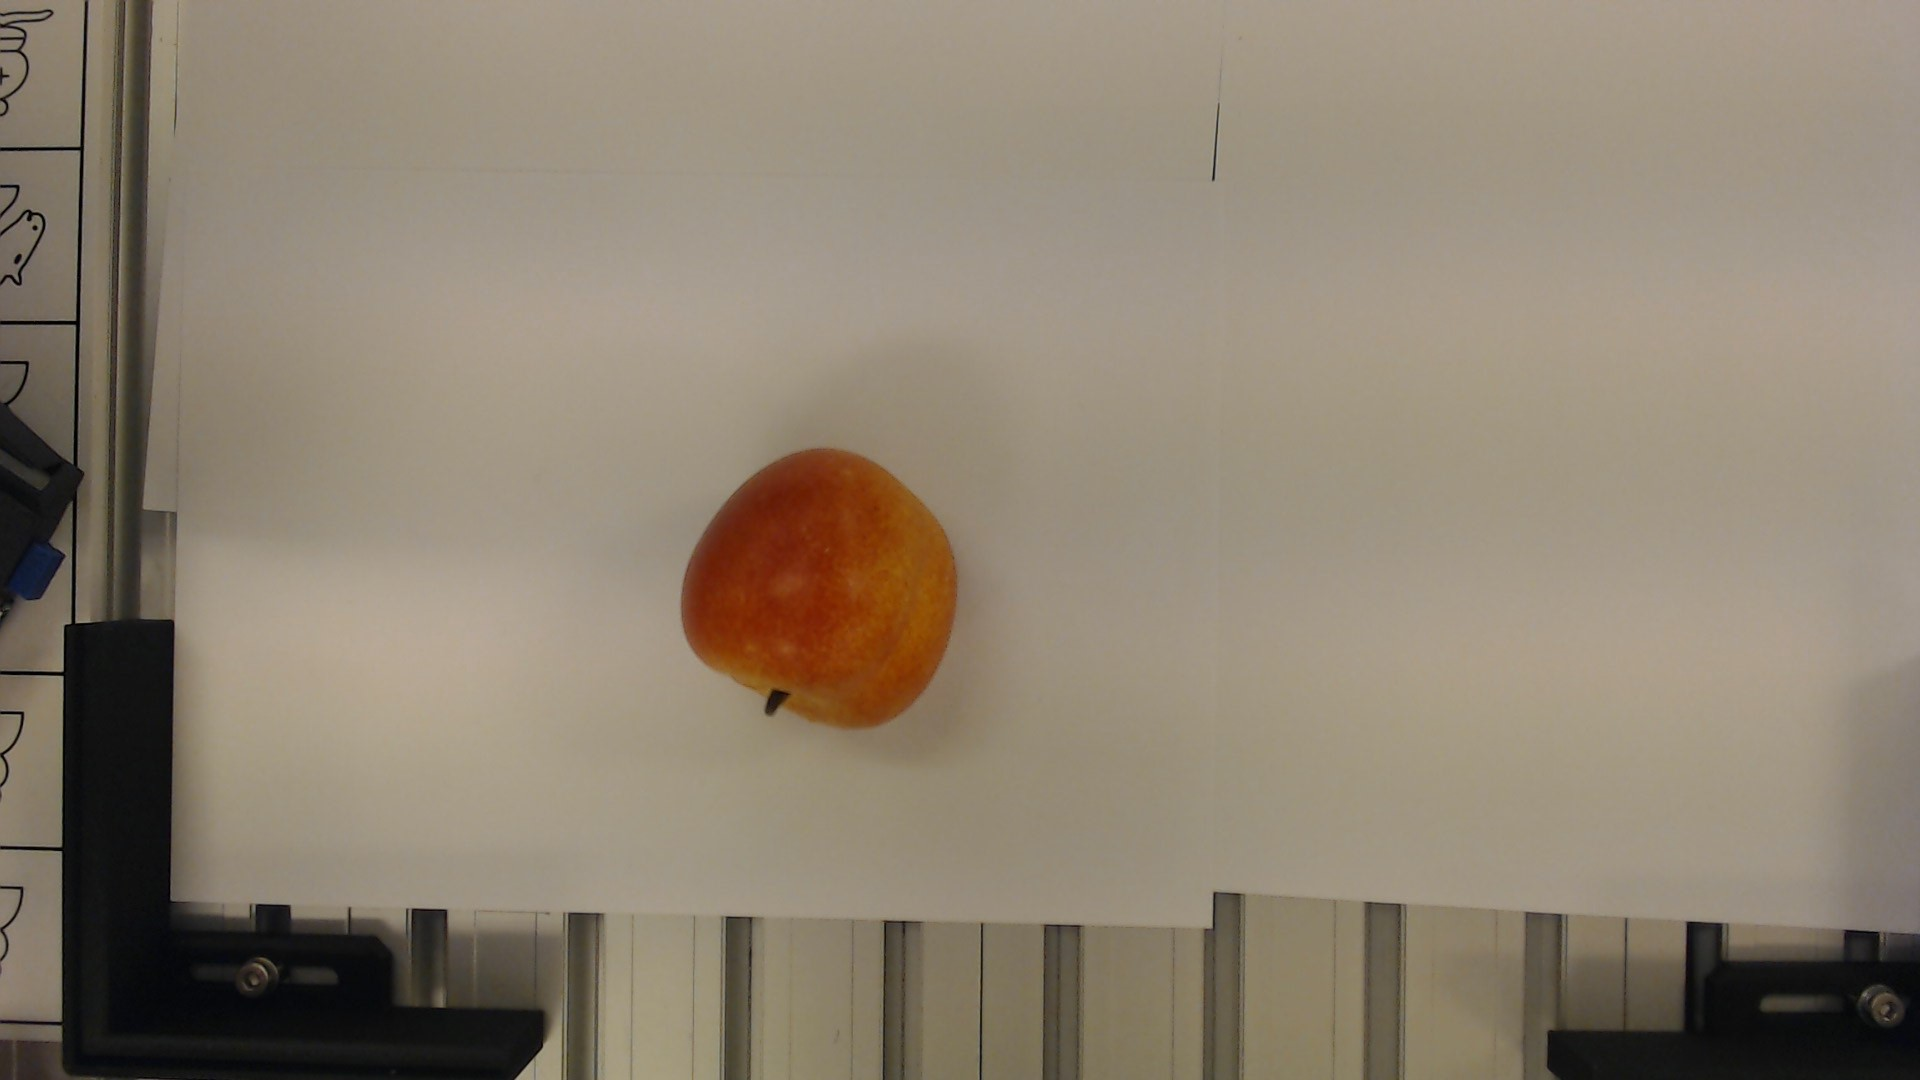Peach: (667, 448, 964, 742)
